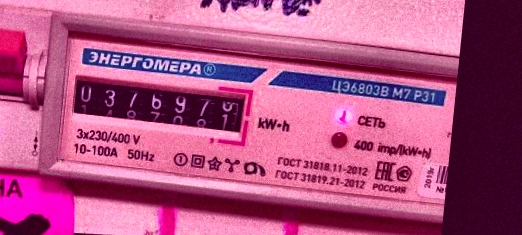0: (78, 81, 93, 103)
1: (218, 111, 230, 130)
3: (101, 86, 116, 107)
6: (148, 87, 163, 110)
7: (124, 86, 139, 108), (196, 94, 210, 117)
9: (172, 92, 186, 114)
screen: (62, 65, 257, 147)
